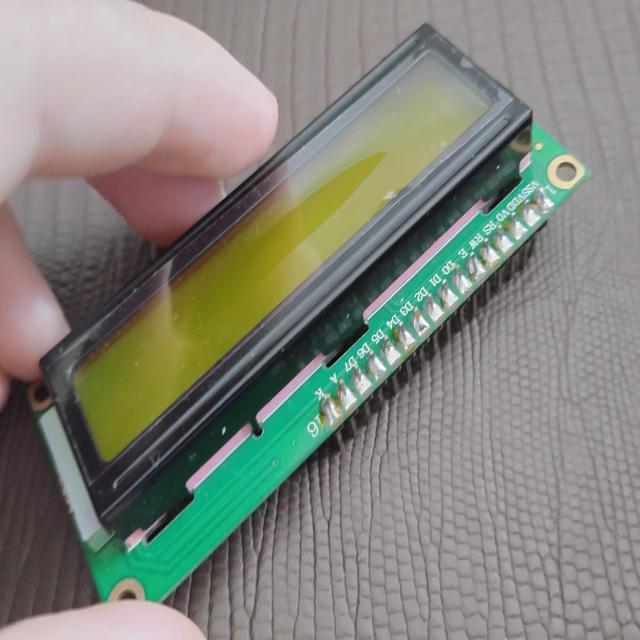lcd: (23, 17, 604, 613)
